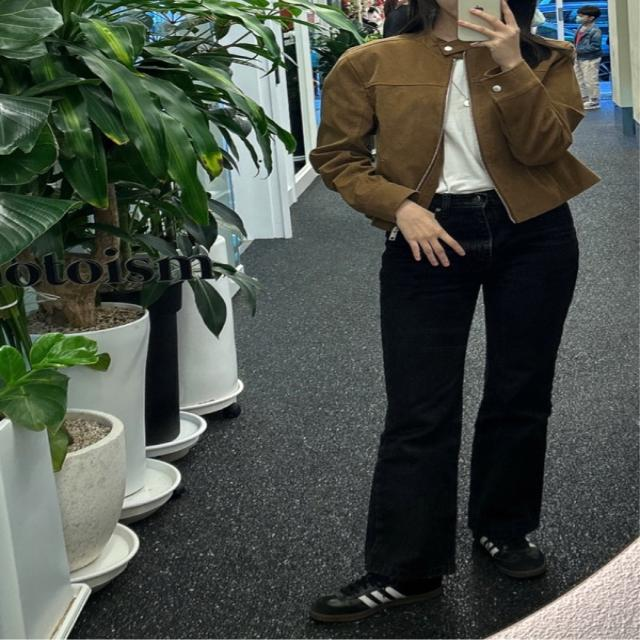denimpants: (364, 194, 582, 588)
jacket: (312, 26, 602, 233)
